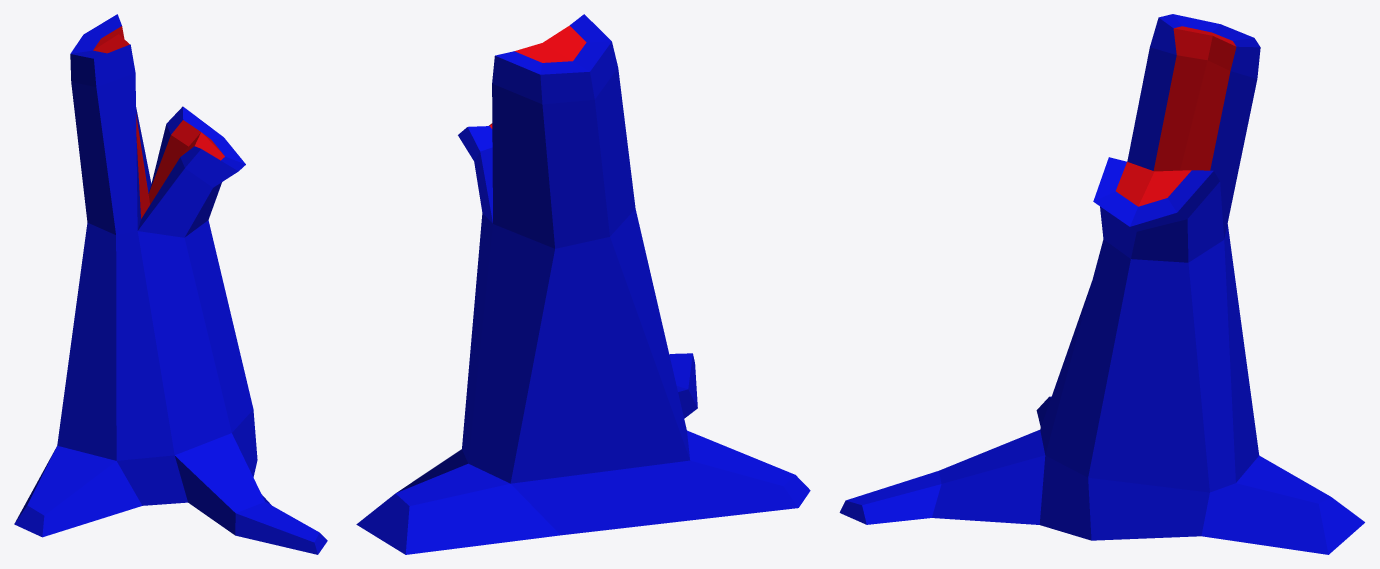
The model's file is SM_TreeStump5.fbx.
The picture shows the model from 3 angles, left to right: view 1: azimuth 30°, elevation 25°; view 2: azimuth 150°, elevation 25°; view 3: azimuth 270°, elevation 25°; orthographic projection. The views are drawn at different scales.
Parts seen in each view (by area): view 1: SM_TreeStump5; view 2: SM_TreeStump5; view 3: SM_TreeStump5.
Part boxes in pixels (box(x1,y1,x2,y2)): SM_TreeStump5: box(14, 14, 327, 554); SM_TreeStump5: box(356, 14, 810, 554); SM_TreeStump5: box(839, 14, 1364, 554).
Bounding box in the file's own units: 87.98 × 129 × 130.
